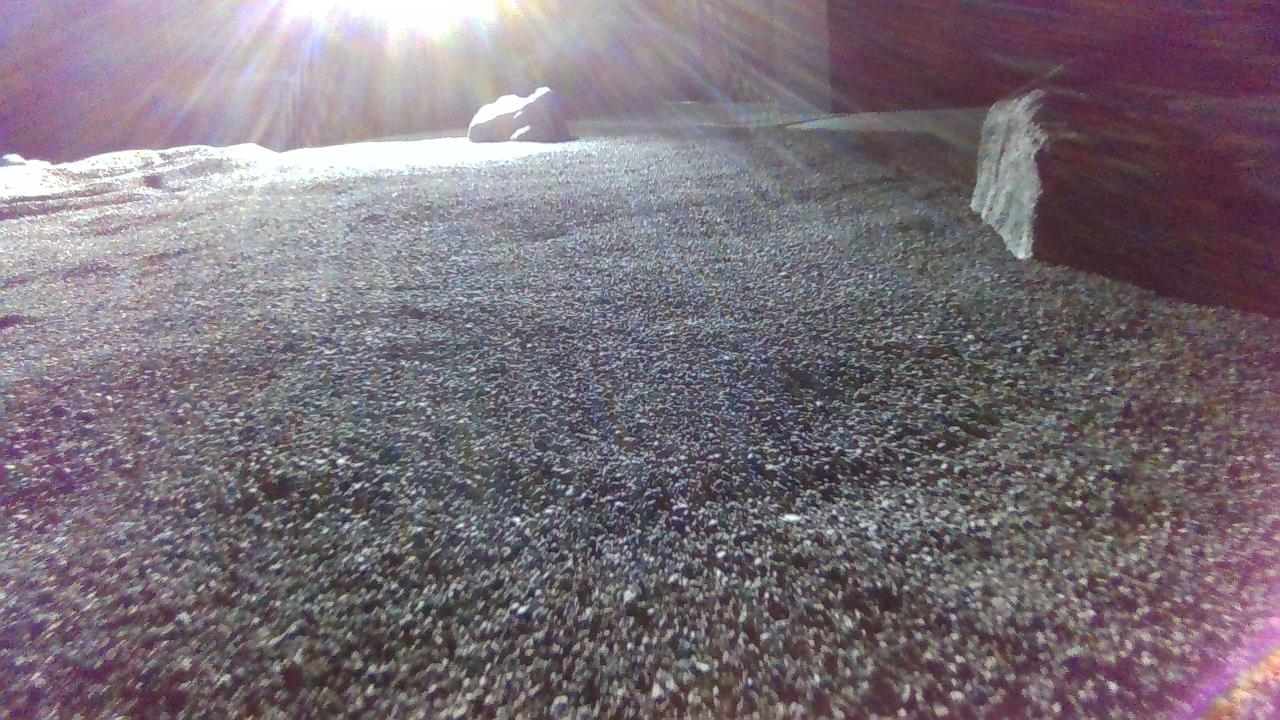rock: (975, 76, 1191, 262), (468, 85, 572, 141)
